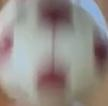Sports-Ball: (2, 2, 104, 100)
